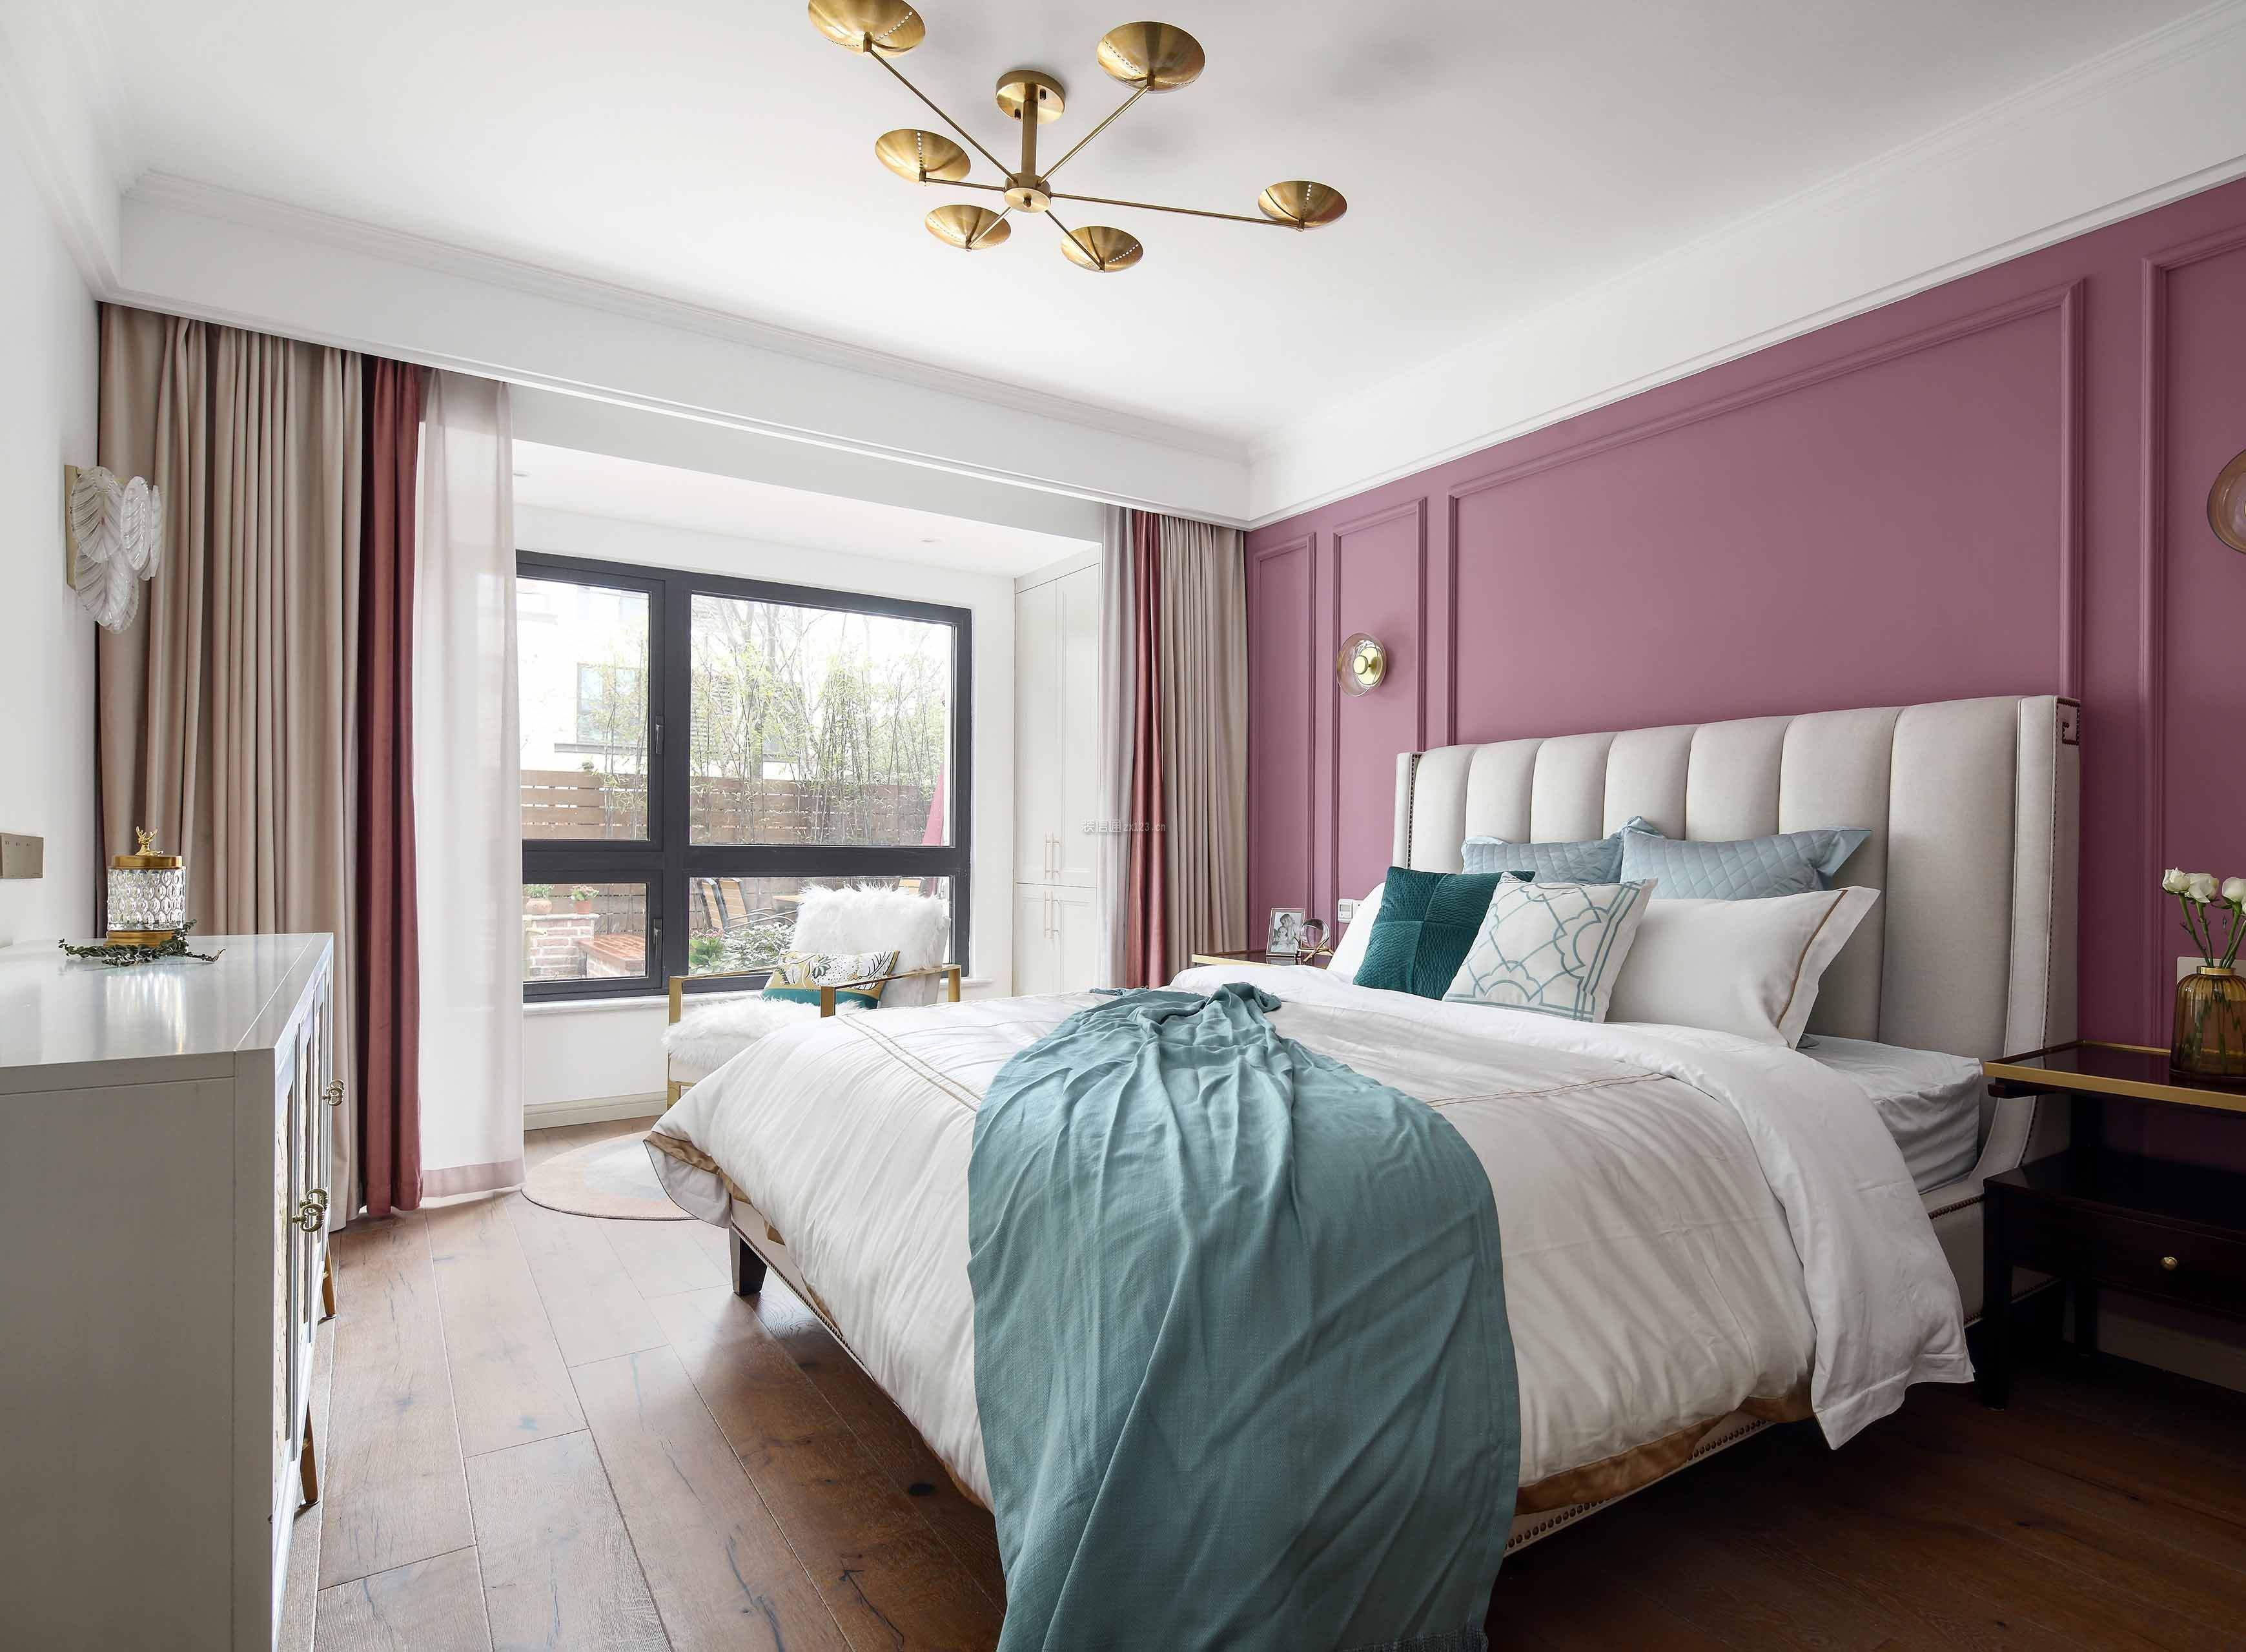床: (652, 968, 2002, 1577)
枕头: (1313, 816, 1887, 1043)
灯: (799, 0, 1397, 281), (2159, 850, 2246, 1102), (44, 452, 160, 631), (1331, 633, 1402, 693)
